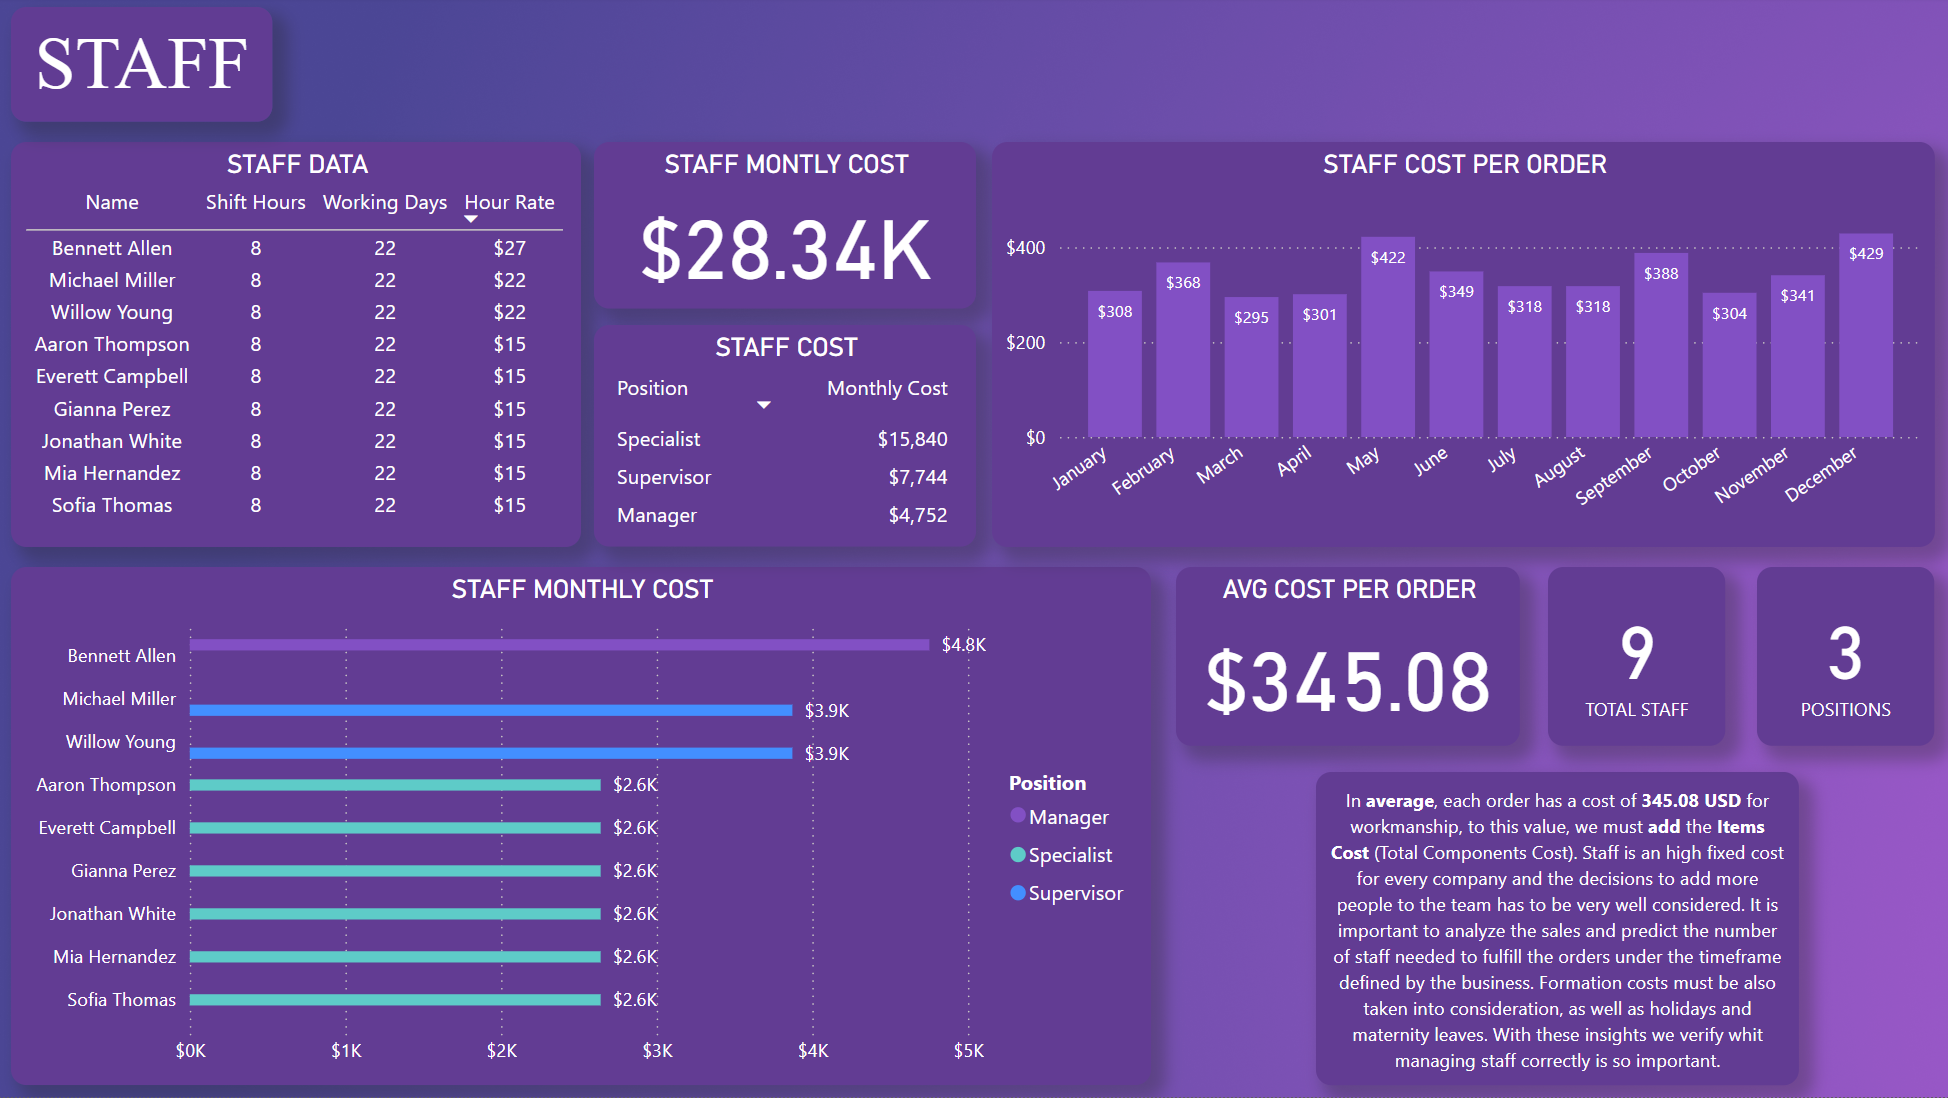

This screenshot's page, from the dashboard's own definition file:
{"tool":"powerbi","page":{"name":"STAFF","canvas":[1280,720],"ordinal":3},"visuals":[{"type":"tableEx","title":"STAFF DATA","fields":{"Values":["staff.staff_full_name","Sum(staff.shift_hours)","Sum(staff.monthly_working_days)","Sum(staff.staff_hour_rate)"]},"box":[8.5,94.9,373,265],"z":0},{"type":"clusteredBarChart","title":"STAFF MONTHLY COST","fields":{"Category":["staff.staff_full_name"],"Y":["Sum(staff.monthly_cost)"],"Series":["staff.staff_position"]},"box":[8.5,373,746,339],"z":1000},{"type":"card","title":"STAFF MONTLY COST","fields":{"Values":["Sum(staff.monthly_cost)"]},"box":[390,94.9,250,108.6],"z":2000},{"type":"tableEx","title":"STAFF COST","fields":{"Values":["staff.staff_position","Sum(staff.monthly_cost)"]},"box":[390,214.6,250,145.3],"z":3000},{"type":"columnChart","title":"STAFF COST PER ORDER","fields":{"Category":["employee_costs.month_name"],"Y":["Sum(employee_costs.cost_per_order)"]},"box":[650.5,94.9,617.1,265],"z":4000},{"type":"card","title":"AVG COST PER ORDER","fields":{"Values":["Avg(employee_costs.cost_per_order)"]},"box":[770.9,373,225.1,117.1],"z":5000},{"type":"textbox","box":[862.5,507.2,316.1,204.8],"z":6000},{"type":"textbox","box":[8.5,6.5,171.5,74.6],"z":7000},{"type":"card","title":"TOTAL EMPLOYEES","fields":{"Values":["Count(staff.staff_id)"]},"box":[1014.3,373,116.5,117.1],"z":8000},{"type":"card","title":"TOTAL EMPLOYEES","fields":{"Values":["Count(staff.staff_position)"]},"box":[1151.1,373,116.5,117.1],"z":9000}]}

Visuals, with their boxes in screenshot pixels (x1, y1, x2, y2), scaled from the page's 1280x720 canvas onto the 1948x1098 screenshot:
"STAFF DATA" tableEx: locate(13, 145, 581, 549)
"STAFF MONTHLY COST" clusteredBarChart: locate(13, 569, 1148, 1086)
"STAFF MONTLY COST" card: locate(594, 145, 974, 310)
"STAFF COST" tableEx: locate(594, 327, 974, 549)
"STAFF COST PER ORDER" columnChart: locate(990, 145, 1929, 549)
"AVG COST PER ORDER" card: locate(1173, 569, 1516, 747)
textbox: locate(1313, 773, 1794, 1086)
textbox: locate(13, 10, 274, 124)
"TOTAL EMPLOYEES" card: locate(1544, 569, 1721, 747)
"TOTAL EMPLOYEES" card: locate(1752, 569, 1929, 747)
